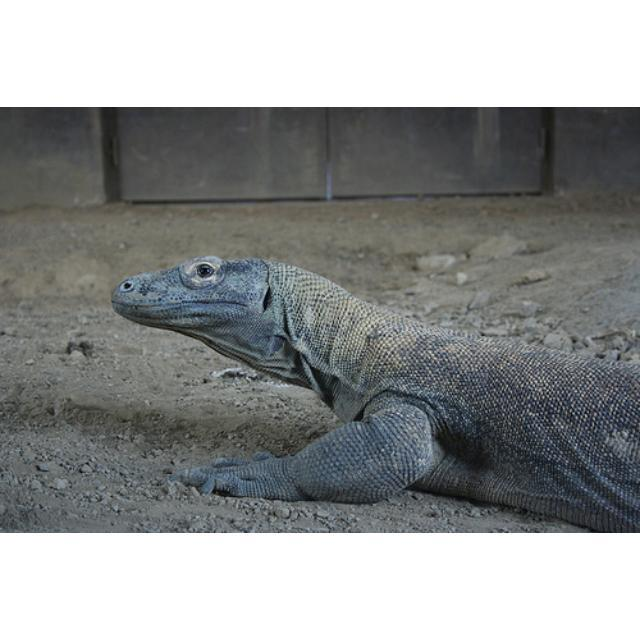KomodoDragon: (107, 251, 636, 524)
